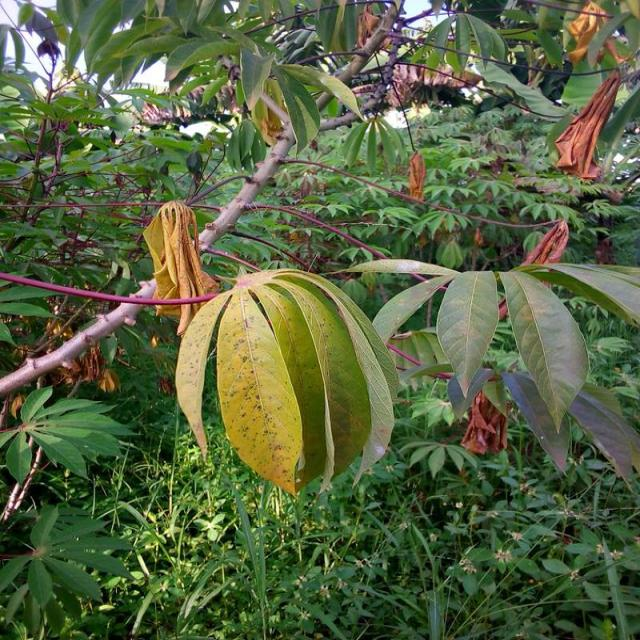cassava leaf: (175, 267, 400, 498), (501, 268, 590, 433), (437, 268, 500, 404)
